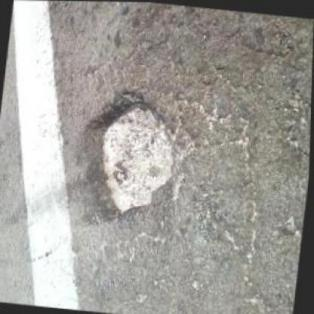Hueco: (73, 84, 190, 226)
